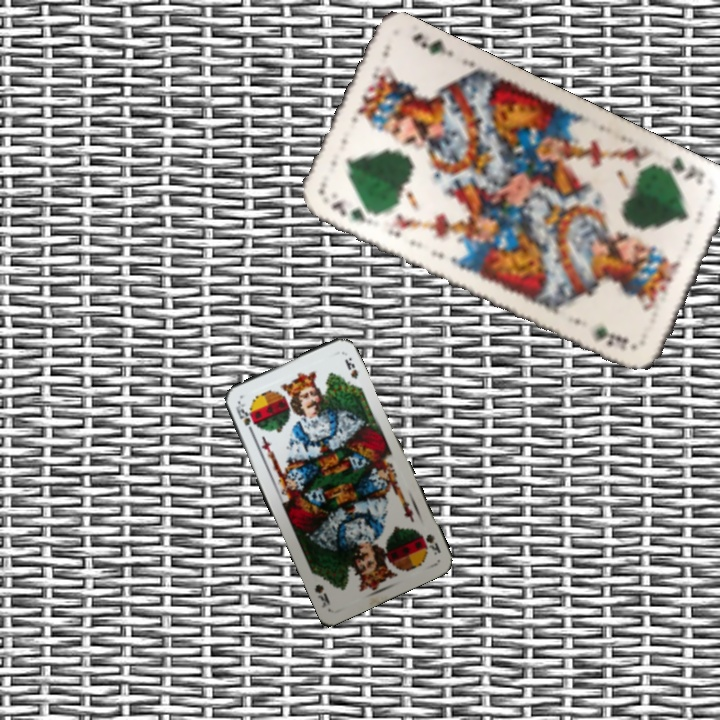GK: (658, 152, 708, 188), (327, 196, 377, 228)
SK: (231, 399, 257, 438), (417, 530, 444, 558)
